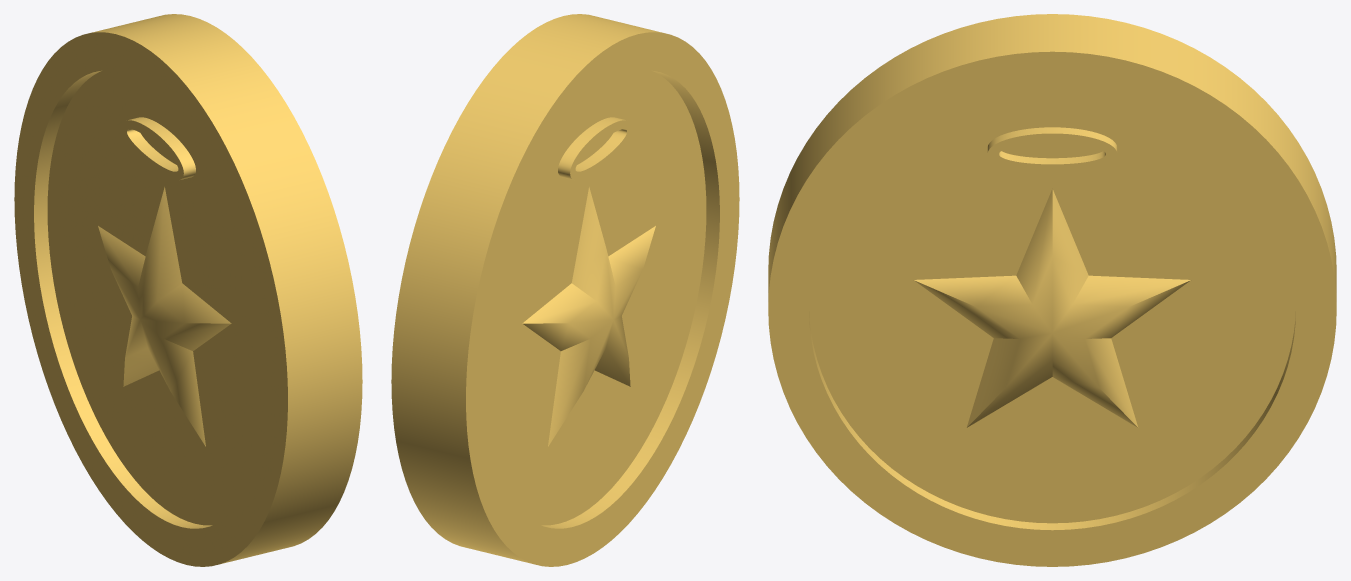
File: SM_StarCoin.fbx
The picture shows the model from 3 angles, left to right: view 1: azimuth 30°, elevation 25°; view 2: azimuth 150°, elevation 25°; view 3: azimuth 270°, elevation 25°; orthographic projection. The views are drawn at different scales.
Visible parts, largest first — view 1: SM_StarCoin; view 2: SM_StarCoin; view 3: SM_StarCoin.
Part boxes in pixels (box(x1,y1,x2,y2)): SM_StarCoin: box(14, 14, 362, 566); SM_StarCoin: box(391, 14, 739, 566); SM_StarCoin: box(768, 14, 1336, 566).
Bounding box in the file's own units: 14.2 × 70 × 70.
